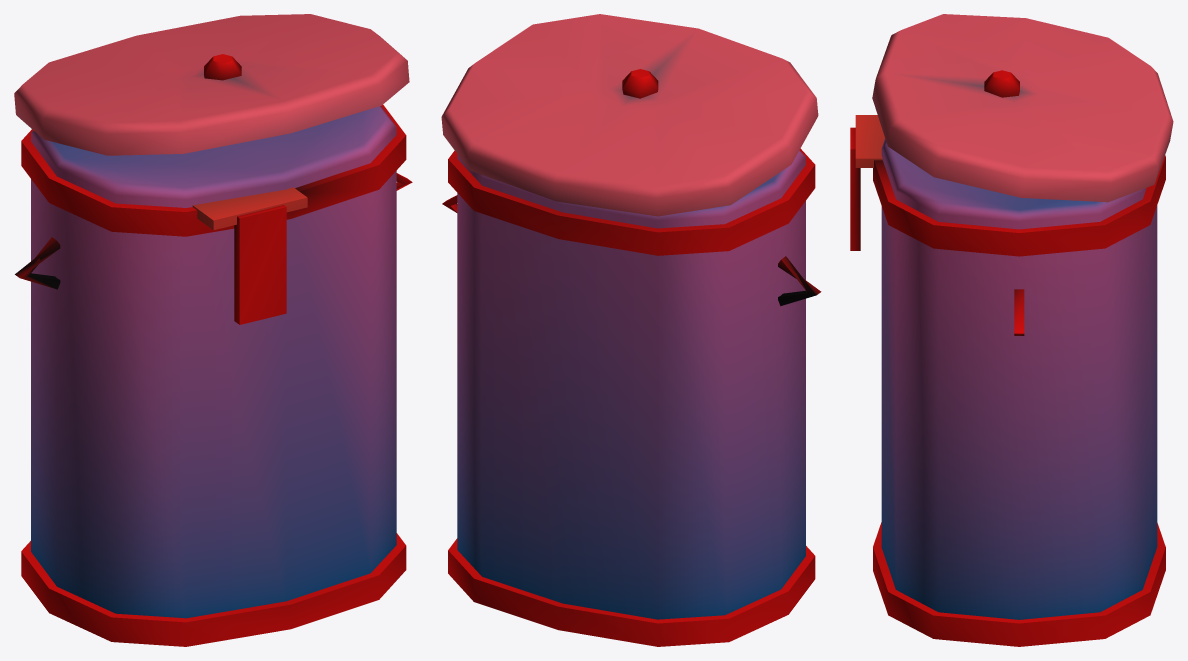
The model's file is CI_Bathroom_LaundryHamper.glb.
3 views of the same model, side by side, from view 1: azimuth 30°, elevation 25°; view 2: azimuth 150°, elevation 25°; view 3: azimuth 270°, elevation 25° (orthographic). The views are drawn at different scales.
Visible parts, largest first — view 1: CI_Bathroom_LaundryHamper; view 2: CI_Bathroom_LaundryHamper; view 3: CI_Bathroom_LaundryHamper.
Boxes of the visible parts, x1,y1,x2,y2 form: CI_Bathroom_LaundryHamper: (14, 14, 412, 646); CI_Bathroom_LaundryHamper: (441, 14, 821, 646); CI_Bathroom_LaundryHamper: (850, 14, 1173, 646).
Bounding box in the file's own units: 0.5013 × 0.6377 × 0.3749.
